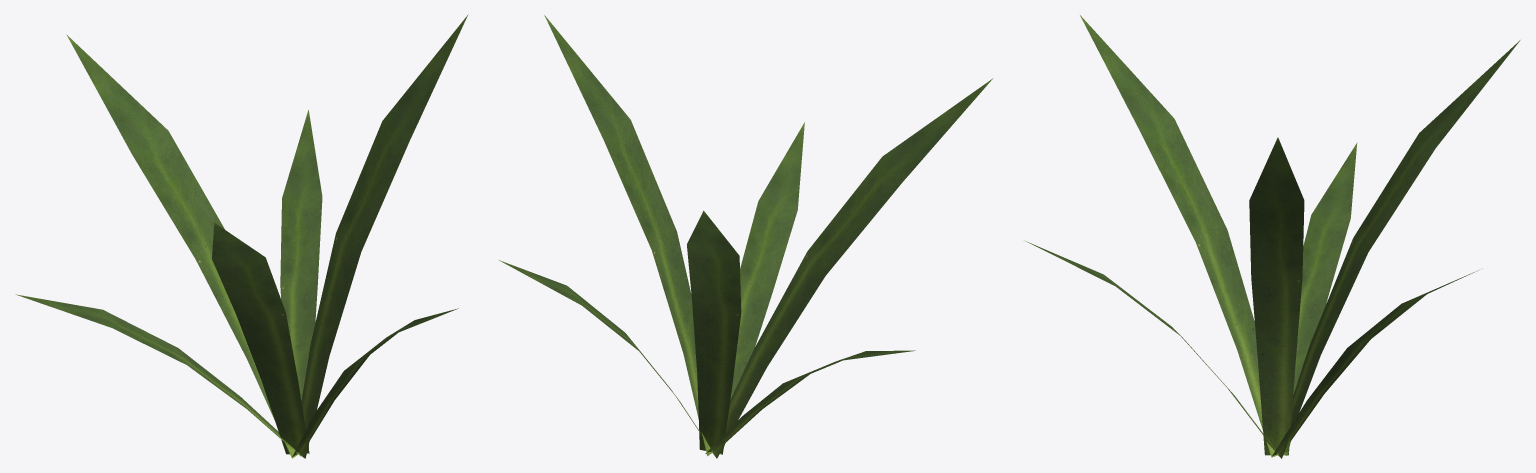
File: plant_009.dae
3 views of the same model, side by side, from view 1: azimuth 30°, elevation 25°; view 2: azimuth 150°, elevation 25°; view 3: azimuth 270°, elevation 25° (orthographic).
Visible parts, largest first — view 1: Plant_009; view 2: Plant_009; view 3: Plant_009.
Part boxes in pixels (box(x1,y1,x2,y2)): Plant_009: box(15, 14, 468, 458); Plant_009: box(499, 15, 992, 458); Plant_009: box(1024, 15, 1520, 458).
Size of the model in its own units: 1.67 by 1.54 by 1.73.
